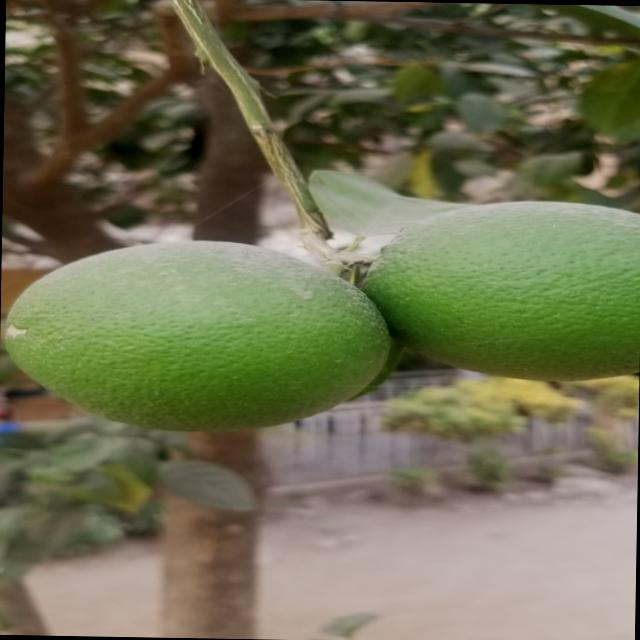Unripe: (18, 239, 390, 436), (364, 199, 636, 380)
